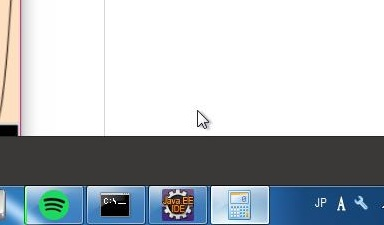cursor: (196, 109, 209, 129)
